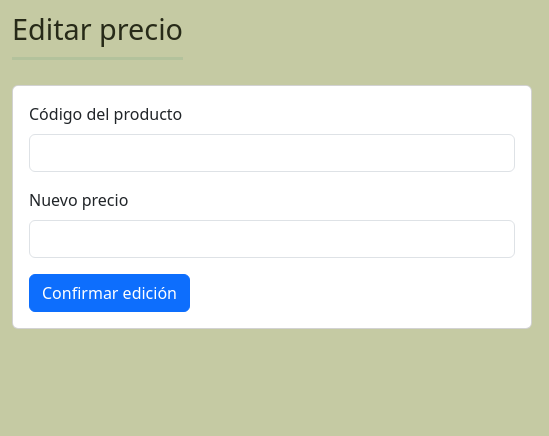
Test case: product admin panels › EditPricePanel › updates the price
Type "MC001" into the field labelled "Código del producto" at (272, 152), box [29,134,515,172]
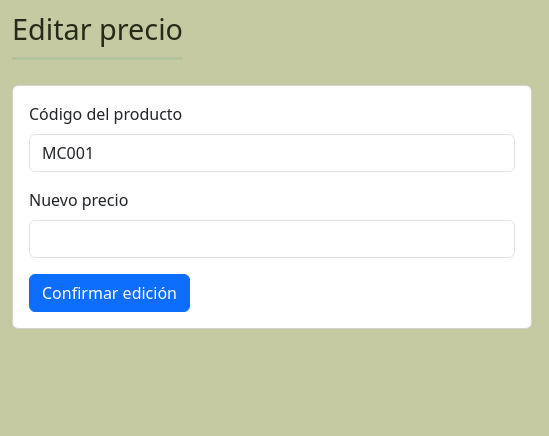
Type "7000" into the number field labelled "Nuevo precio" at (272, 238), box [29,220,515,258]
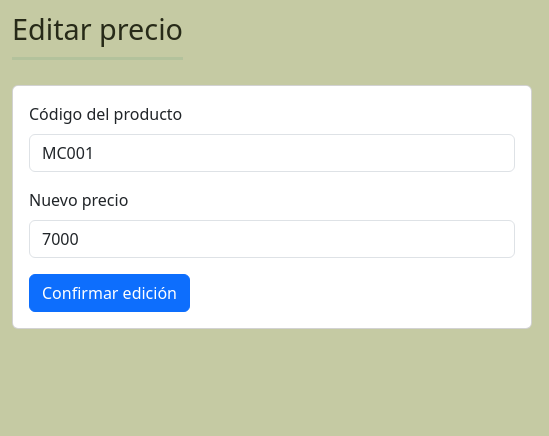
Click the button "Confirmar edición" at (110, 292), box [29,274,190,312]
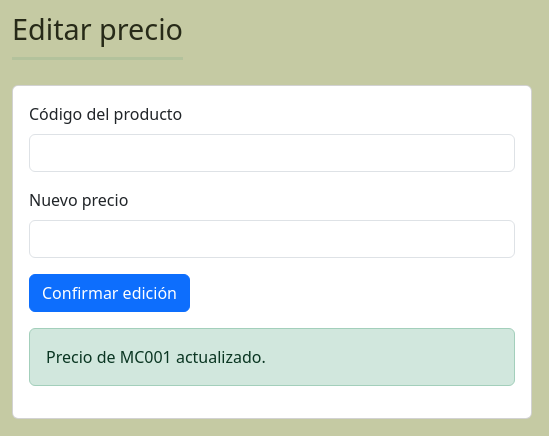
Expected: the text "Precio de MC001 actualizado." is shown, [29,328,515,386]
